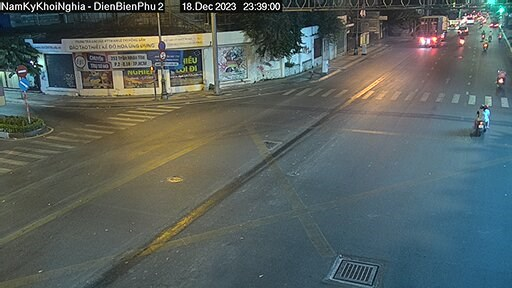motorbike: (470, 98, 494, 133), (494, 63, 510, 87)
truck: (416, 12, 448, 47)
